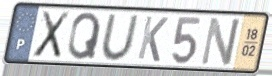5: (168, 15, 205, 66)
K: (135, 14, 170, 64)
N: (198, 15, 243, 68)
Q: (66, 10, 103, 62)
U: (99, 13, 141, 63)
X: (30, 10, 72, 61)
